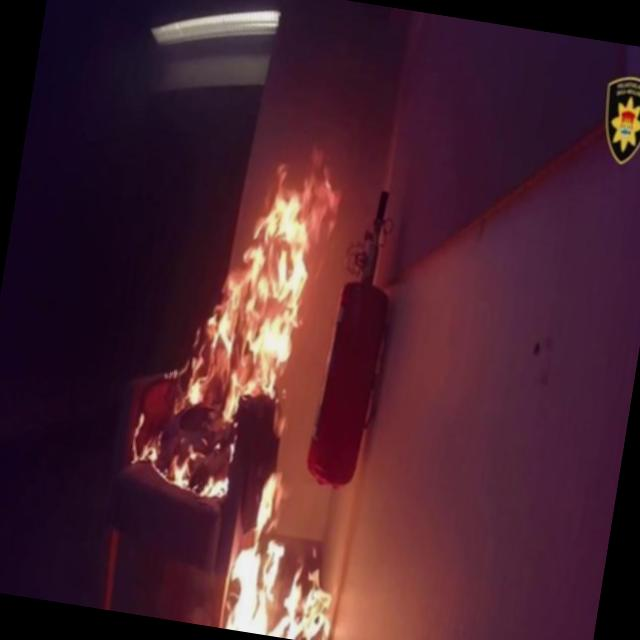fire: (96, 151, 409, 640)
